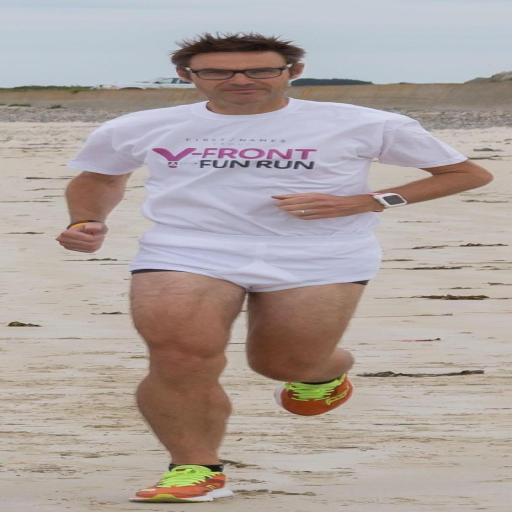person: (57, 33, 492, 501)
